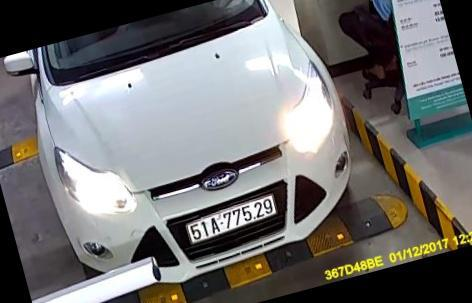License_Plate: (180, 195, 285, 246)
